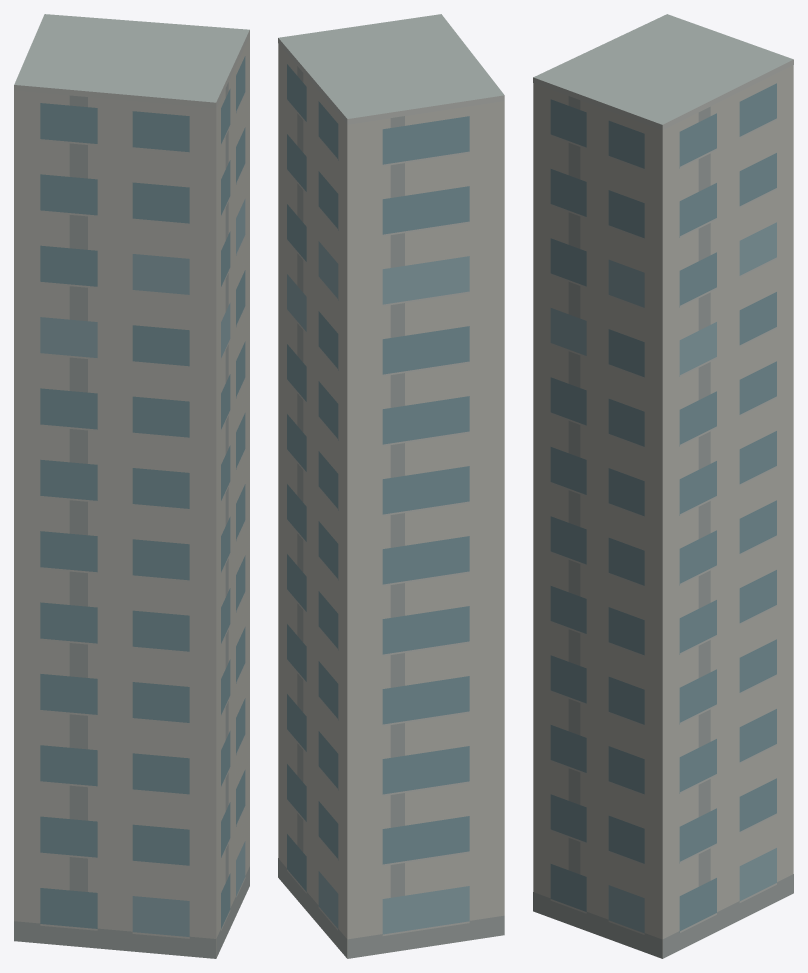
Rendered from survey-upis-32622544.glb.
3 renders of one model, left to right at view 1: azimuth 30°, elevation 25°; view 2: azimuth 150°, elevation 25°; view 3: azimuth 270°, elevation 25°, orthographic. The views are drawn at different scales.
Parts seen in each view (by area): view 1: survey-upis-32622544.tmp; view 2: survey-upis-32622544.tmp; view 3: survey-upis-32622544.tmp.
Part boxes in pixels (bbox=[...]): survey-upis-32622544.tmp: bbox=[14, 14, 249, 958]; survey-upis-32622544.tmp: bbox=[278, 14, 504, 958]; survey-upis-32622544.tmp: bbox=[533, 14, 793, 958].
Bounding box in the file's own units: 10.45 × 36.6 × 10.37.
